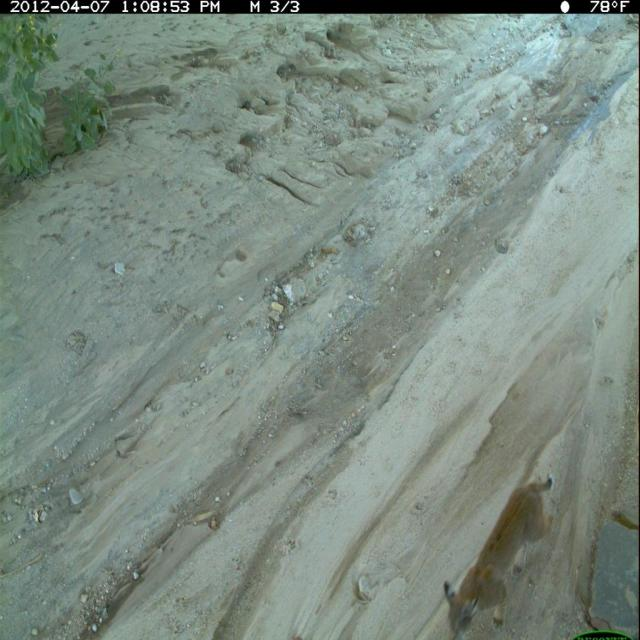bobcat: (440, 472, 559, 640)
